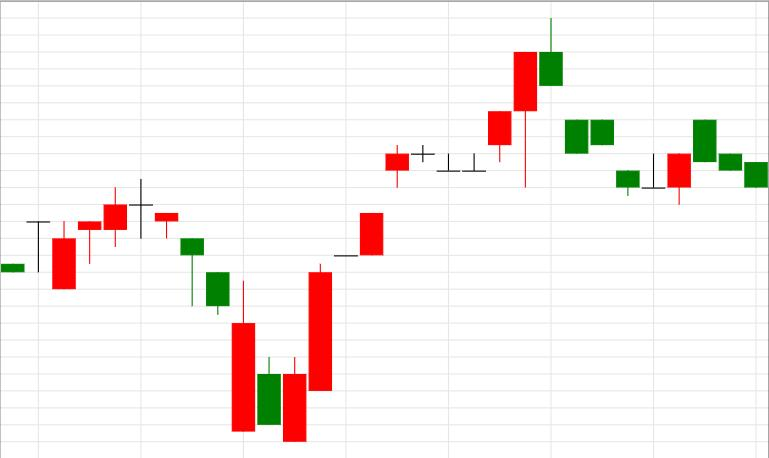bullish_engulfing_rise: (130, 180, 306, 443)
